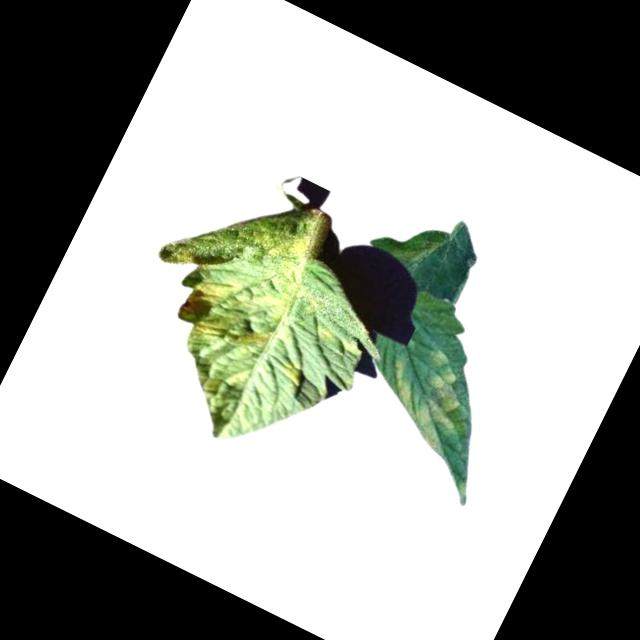Leaf_Mold: (102, 159, 330, 427), (365, 334, 486, 460), (273, 358, 308, 392)
